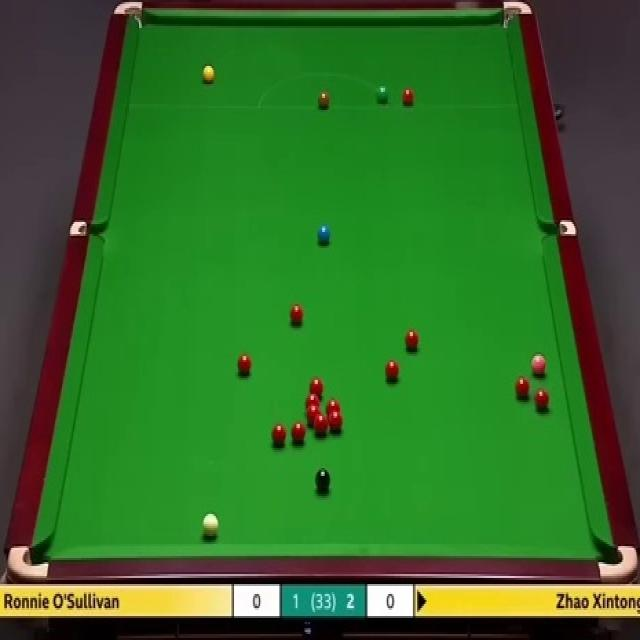black-ball: (315, 466, 331, 496)
blue-ball: (316, 224, 332, 246)
brown-ball: (317, 90, 330, 110)
green-ball: (376, 85, 389, 105)
pink-ball: (531, 352, 547, 378)
red-ball: (290, 420, 307, 448), (236, 352, 253, 379), (514, 376, 530, 401), (270, 422, 286, 446), (328, 410, 343, 435), (384, 359, 399, 384), (405, 328, 420, 352), (534, 388, 550, 410), (289, 304, 304, 326), (314, 413, 328, 435), (308, 377, 324, 394), (306, 406, 320, 424), (402, 87, 414, 106), (306, 392, 320, 408), (326, 401, 340, 414)
white-ball: (201, 512, 219, 541)
yellow-ball: (203, 65, 216, 86)
